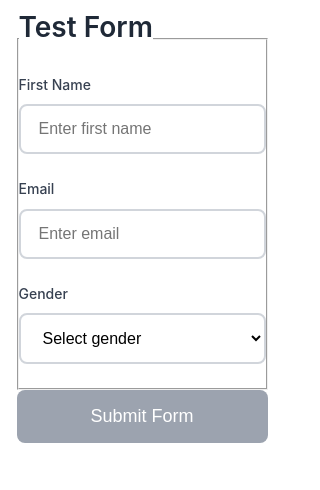
DynamicForm › shows validation errors for required fields
In the field labelled "First Name": (142, 129) [18,104,266,154], type "a"
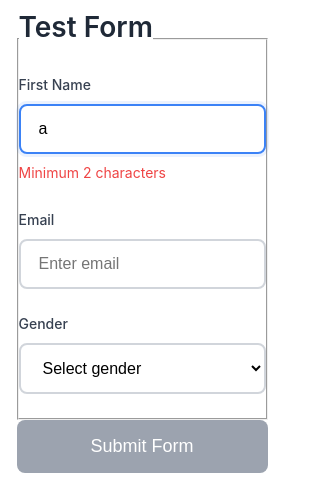
Clear the field labelled "First Name": (142, 129) [18,104,266,154]
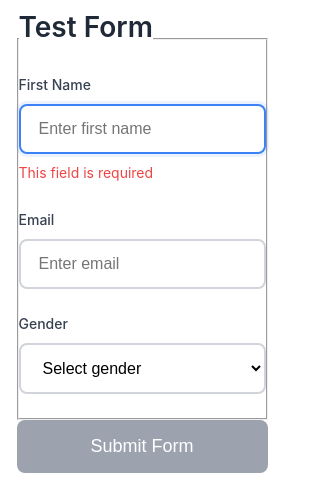
Result: the text "This field is required" is shown at [18,164,153,181]
